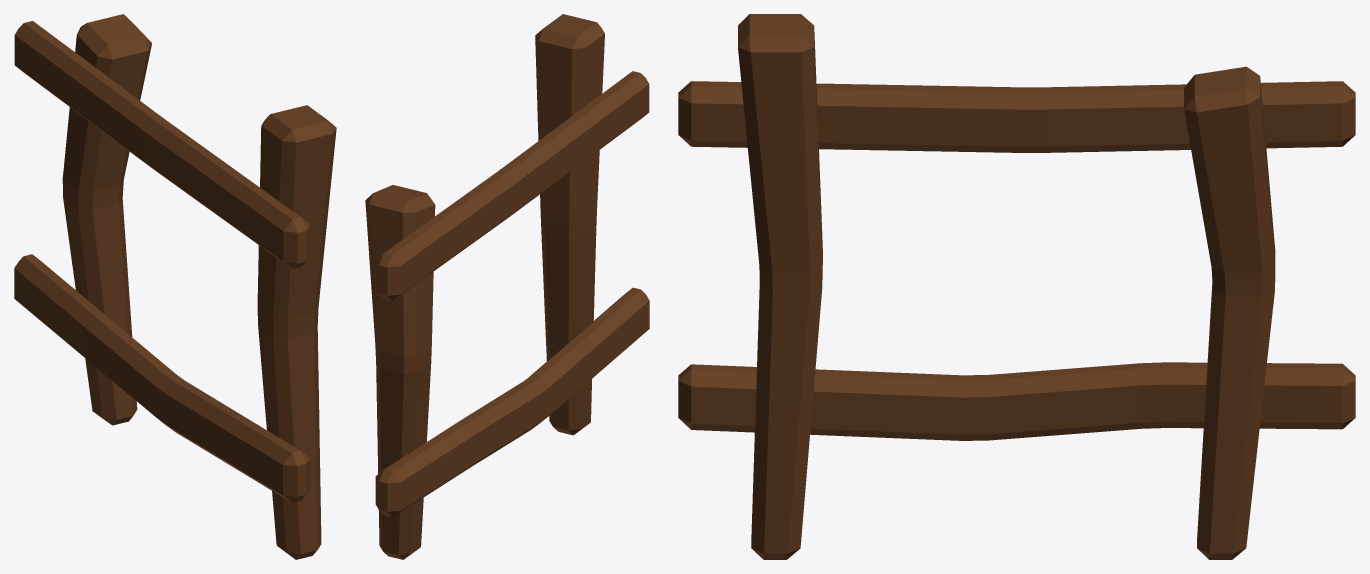
Rendered from fence1.fbx.
The picture shows the model from 3 angles, left to right: view 1: azimuth 30°, elevation 25°; view 2: azimuth 150°, elevation 25°; view 3: azimuth 270°, elevation 25°; orthographic projection. The views are drawn at different scales.
Parts seen in each view (by area): view 1: Cube.034; view 2: Cube.034; view 3: Cube.034.
Part boxes in pixels (x1,y1,x2,y2): Cube.034: [14, 14, 336, 559]; Cube.034: [365, 14, 649, 559]; Cube.034: [678, 14, 1355, 559].
Bounding box in the file's own units: 18.44 × 91.53 × 106.
